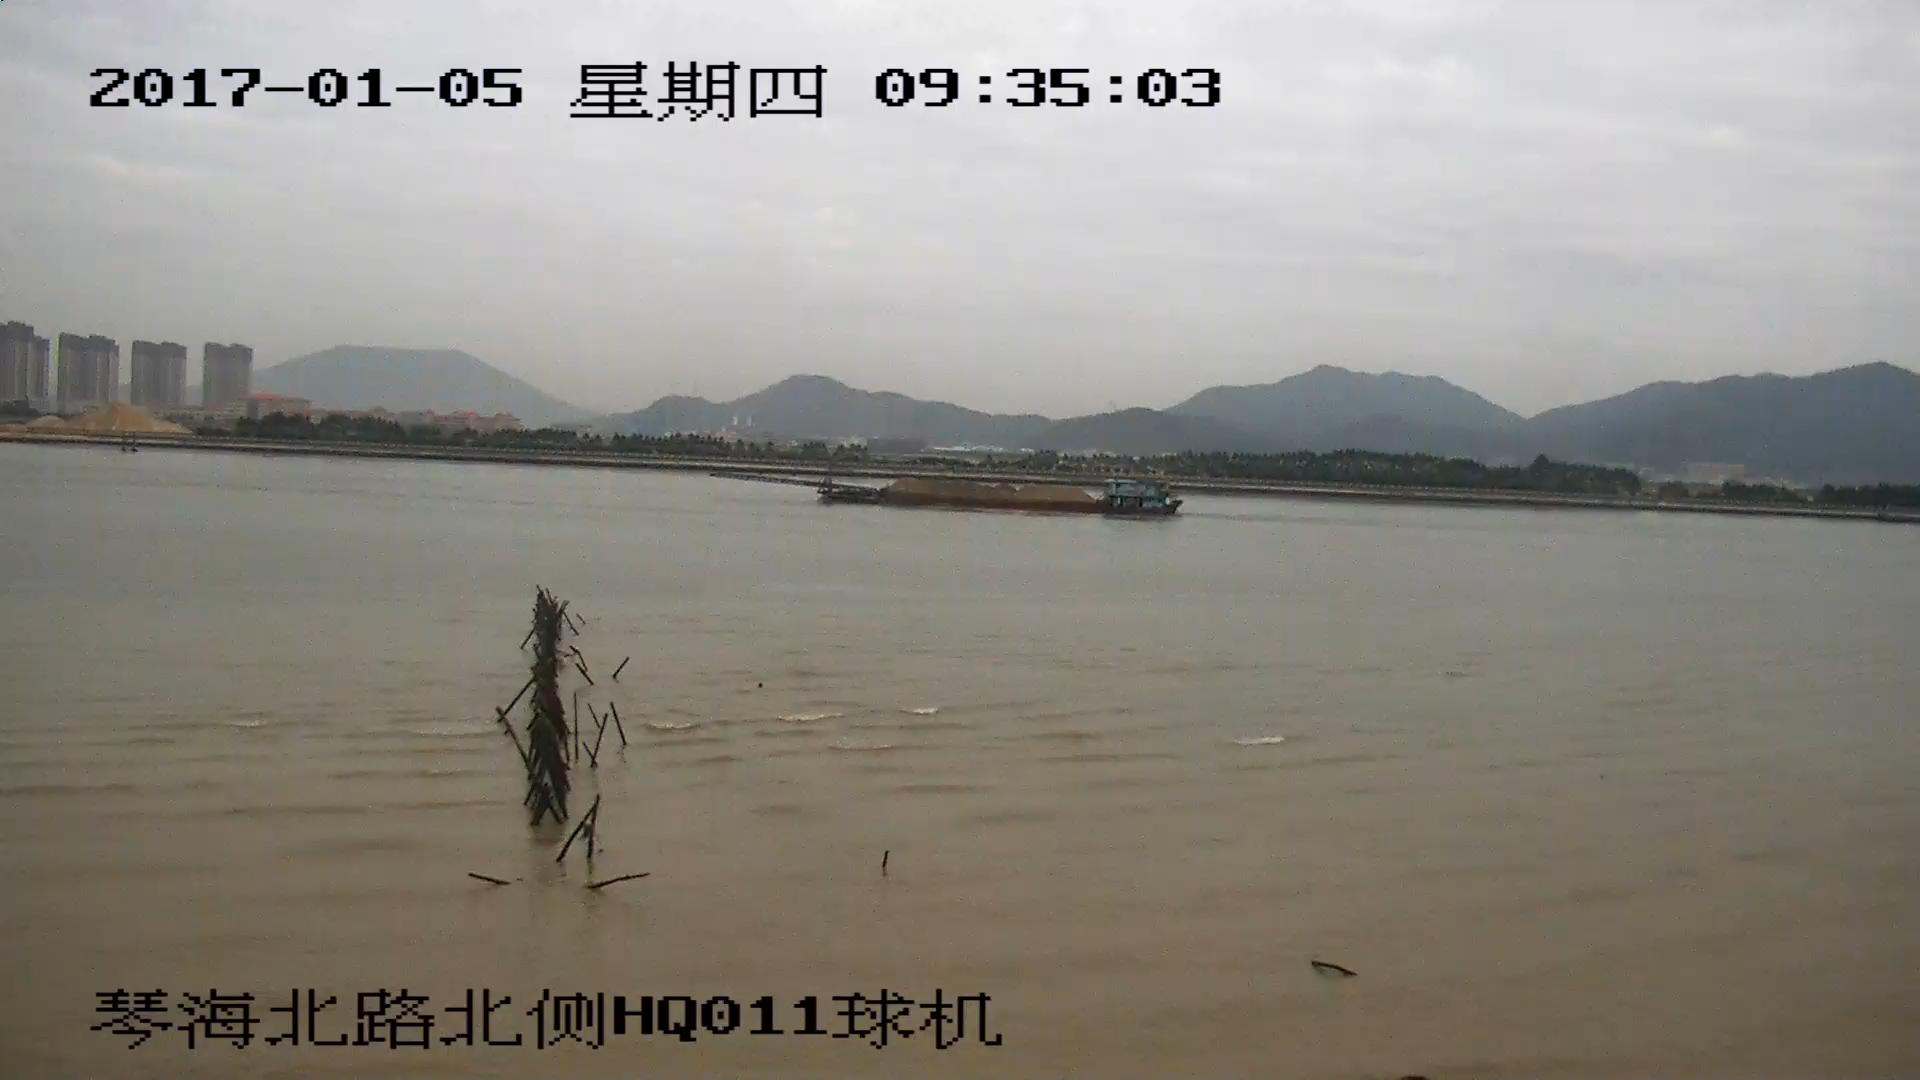ore carrier: (714, 464, 1176, 516)
